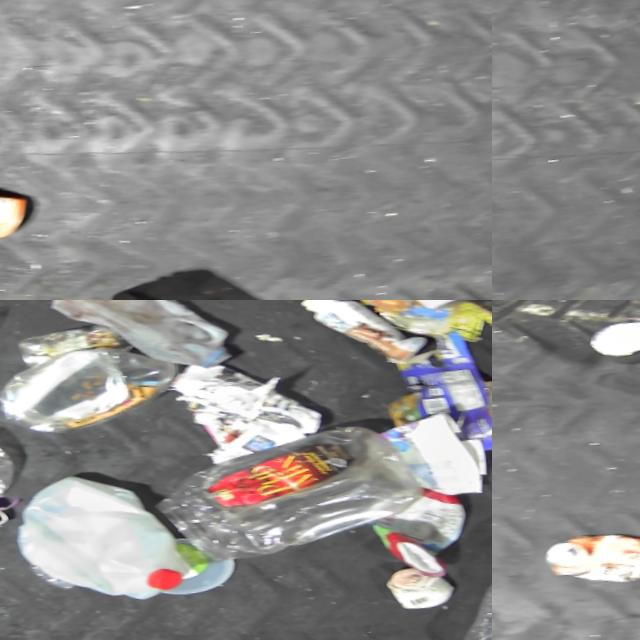can: (540, 518, 640, 587), (584, 307, 640, 358), (0, 179, 38, 244)
milk_jug: (5, 454, 210, 608), (41, 300, 239, 380)
plastic_bottle: (448, 516, 492, 640)
